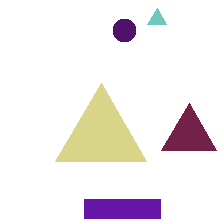circle: (113, 19, 135, 41)
rectangle: (84, 199, 160, 218)
triangle: (55, 83, 146, 161), (161, 103, 216, 150), (147, 8, 166, 24)
